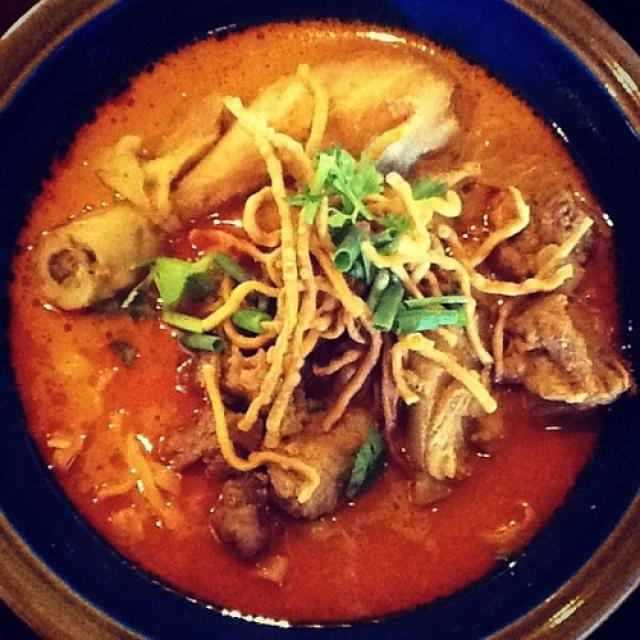面条主食: (48, 26, 602, 599)
